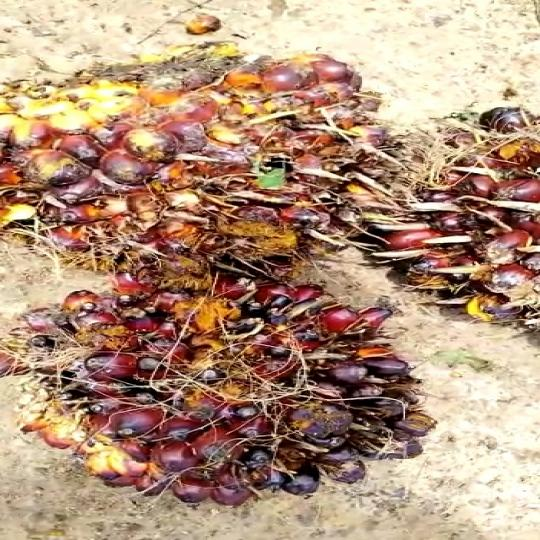masak: (0, 270, 430, 515), (0, 49, 398, 284), (344, 103, 540, 341)
